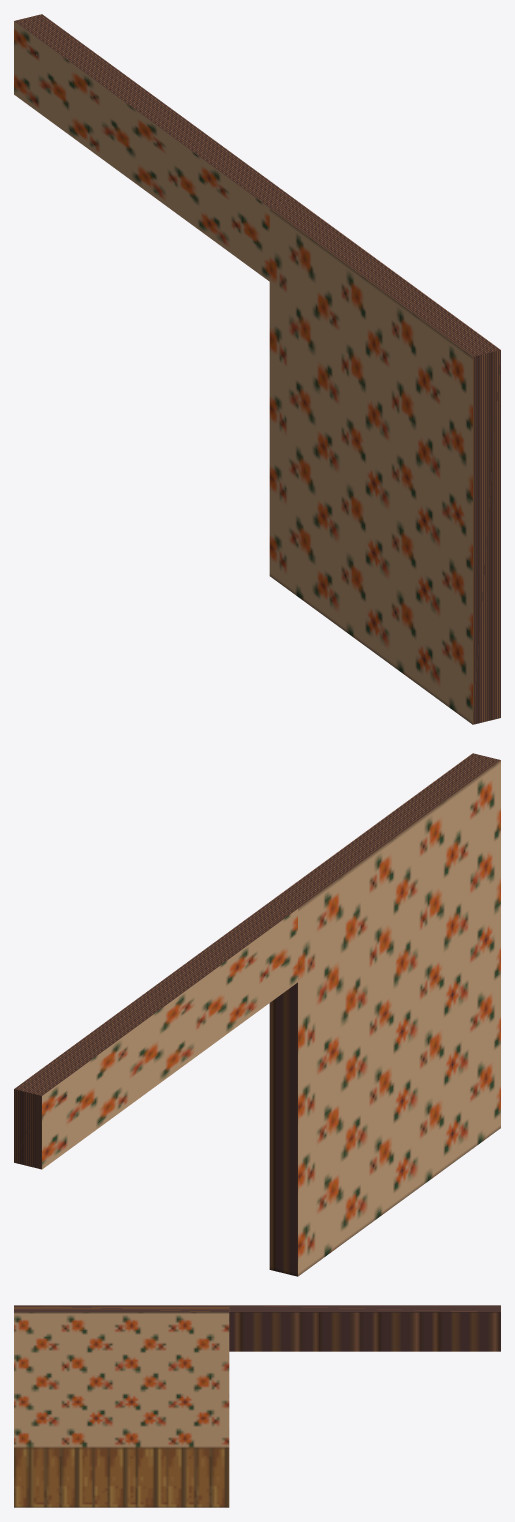
The model's file is Paredes_Cocina_corredor.obj.
3 views of the same model, one above another, from view 1: azimuth 30°, elevation 25°; view 2: azimuth 150°, elevation 25°; view 3: azimuth 270°, elevation 25° (orthographic). The views are drawn at different scales.
Parts seen in each view (by area): view 1: Paredes_Cocina_corredor; view 2: Paredes_Cocina_corredor; view 3: Paredes_Cocina_corredor.
Part boxes in pixels (<box>): Paredes_Cocina_corredor: <box>14,14,500,724</box>; Paredes_Cocina_corredor: <box>14,753,500,1276</box>; Paredes_Cocina_corredor: <box>14,1305,500,1507</box>.
Size of the model in its own units: 0.125 by 1.56 by 3.53.
1 material, 1 textured.
